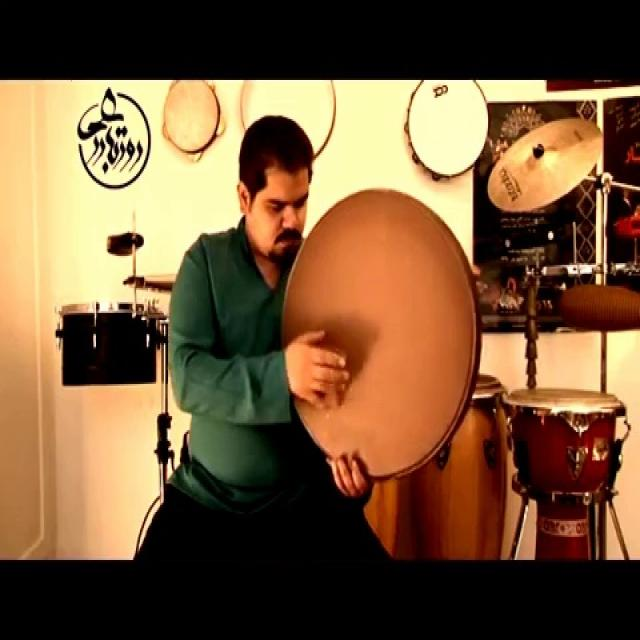Daf: (283, 188, 486, 476)
